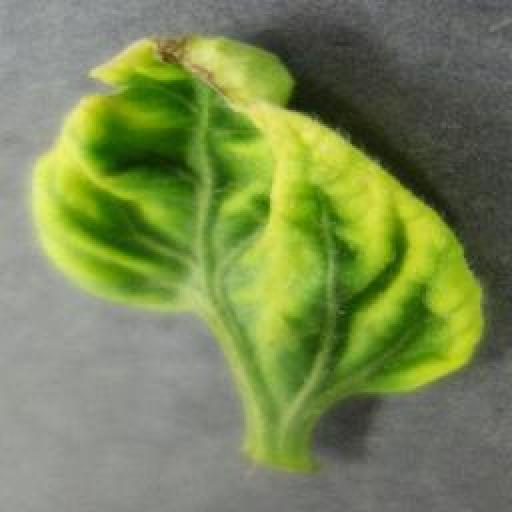Yellow Leaf Curl Virus: (27, 30, 490, 398)
